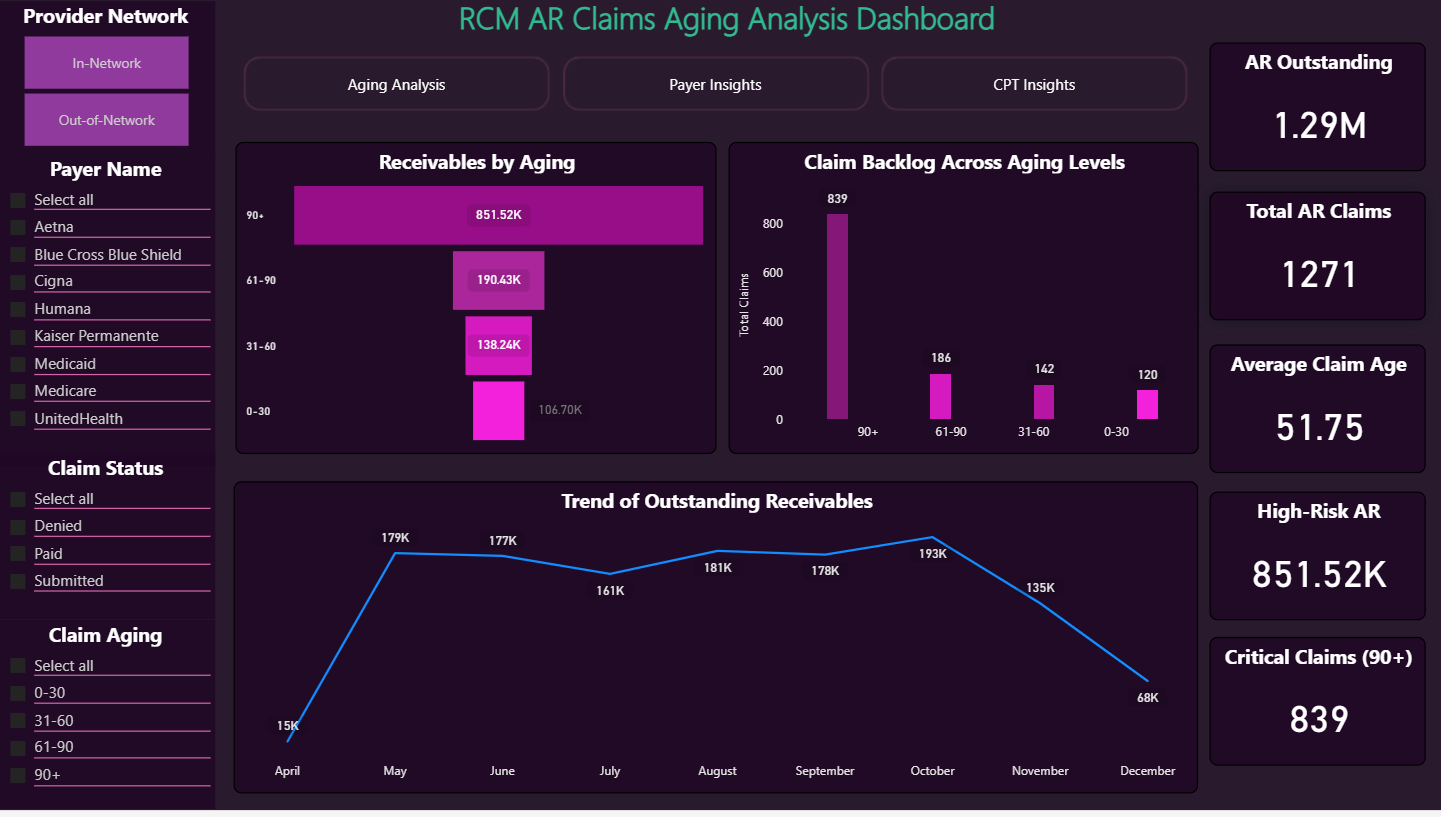

What the dashboard file says about the page in this screenshot:
{"tool":"powerbi","page":{"name":"Aging Analysis","canvas":[1280,720],"ordinal":0},"visuals":[{"type":"card","title":"AR Outstanding","fields":{"Values":["Sum(ar_aging_project_data.balance_amount)"]},"box":[1073.8,46.1,189.8,112.6],"z":0},{"type":"card","title":"Total AR Claims","fields":{"Values":["Count(ar_aging_project_data.claim_id)"]},"box":[1073.8,177.3,189.8,112.6],"z":1000},{"type":"card","title":"High-Risk AR ","fields":{"Values":["Sum(ar_aging_project_data.balance_amount)"]},"box":[1073.8,440.7,189.8,112.6],"z":2000},{"type":"card","title":"Average Claim Age","fields":{"Values":["Avg(ar_aging_project_data.claim_age_days)"]},"box":[1073.8,311.2,189.8,112.6],"z":3000},{"type":"slicer","title":"Payer Name","fields":{"Values":["ar_aging_project_data.payer_name"]},"box":[7.1,143.6,193.3,274],"z":4000},{"type":"funnel","title":"Receivables by Aging ","fields":{"Category":["ar_aging_project_data.aging_bucket"],"Y":["Sum(ar_aging_project_data.balance_amount)"]},"box":[218.1,133,422.1,274],"z":5000},{"type":"clusteredColumnChart","title":"Claim Backlog Across Aging Levels","fields":{"Category":["ar_aging_project_data.aging_bucket"],"Y":["Count(ar_aging_project_data.claim_id)"],"Series":["ar_aging_project_data.aging_bucket"]},"box":[650.8,133,412.3,274],"z":6000},{"type":"slicer","title":"Claim Aging","fields":{"Values":["ar_aging_project_data.aging_bucket"]},"box":[7.1,553.3,193.3,166.7],"z":7000},{"type":"slicer","title":"Claim Status","fields":{"Values":["ar_aging_project_data.claim_status_filled"]},"box":[7.1,407,193.3,146.3],"z":8000},{"type":"slicer","title":"Provider Network","fields":{"Values":["ar_aging_project_data.network_status"]},"box":[7.1,9.8,193.3,133.9],"z":9000},{"type":"lineChart","title":"Trend of Outstanding Receivables","fields":{"Y":["Sum(ar_aging_project_data.balance_amount)"],"Category":["ar_aging_project_data.claim_submission_date.Variation.Date Hierarchy.Year","ar_aging_project_data.claim_submission_date.Variation.Date Hierarchy.Quarter","ar_aging_project_data.claim_submission_date.Variation.Date Hierarchy.Month","ar_aging_project_data.claim_submission_date.Variation.Date Hierarchy.Day"]},"box":[216.4,430.9,846.8,274],"z":10000},{"type":"card","title":"Critical Claims (90+)","fields":{"Values":["Count(ar_aging_project_data.claim_id)"]},"box":[1073.8,568.4,189.8,112.6],"z":11000},{"type":"textbox","box":[235.9,0,827.3,57.6],"z":12000},{"type":"pageNavigator","box":[224.3,57.6,830.8,49.7],"z":13000}]}

Visuals, with their boxes in screenshot pixels (x1, y1, x2, y2), scaled from the page's 1280x720 canvas onto the 1441x817 screenshot:
"AR Outstanding" card: box=[1209, 52, 1423, 180]
"Total AR Claims" card: box=[1209, 201, 1423, 329]
"High-Risk AR " card: box=[1209, 500, 1423, 628]
"Average Claim Age" card: box=[1209, 353, 1423, 481]
"Payer Name" slicer: box=[8, 163, 226, 474]
"Receivables by Aging " funnel: box=[246, 151, 721, 462]
"Claim Backlog Across Aging Levels" clusteredColumnChart: box=[733, 151, 1197, 462]
"Claim Aging" slicer: box=[8, 628, 226, 816]
"Claim Status" slicer: box=[8, 462, 226, 628]
"Provider Network" slicer: box=[8, 11, 226, 163]
"Trend of Outstanding Receivables" lineChart: box=[244, 489, 1197, 800]
"Critical Claims (90+)" card: box=[1209, 645, 1423, 773]
textbox: box=[266, 0, 1197, 65]
pageNavigator: box=[253, 65, 1188, 122]
